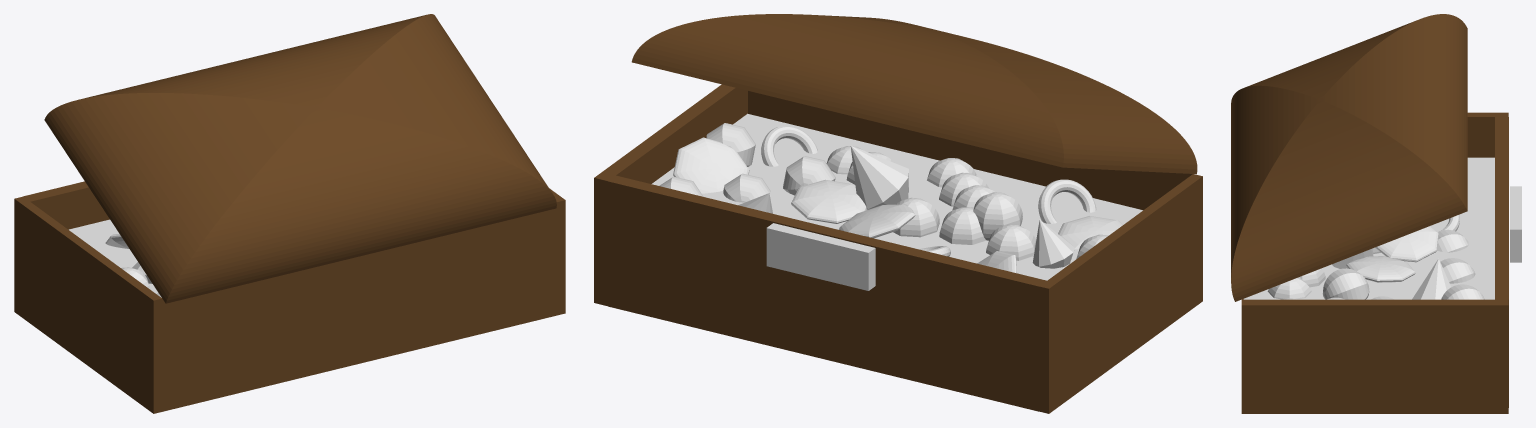
The model's file is chest_01.fbx.
The picture shows the model from 3 angles, left to right: view 1: azimuth 30°, elevation 25°; view 2: azimuth 150°, elevation 25°; view 3: azimuth 270°, elevation 25°; orthographic projection. The views are drawn at different scales.
Visible parts, largest first — view 1: Cube.001; view 2: Cube.001; view 3: Cube.001.
Part boxes in pixels (x1,y1,x2,y2): Cube.001: (14, 14, 565, 413); Cube.001: (594, 14, 1202, 413); Cube.001: (1231, 14, 1521, 413).
Size of the model in its own units: 590 by 330 by 376.
